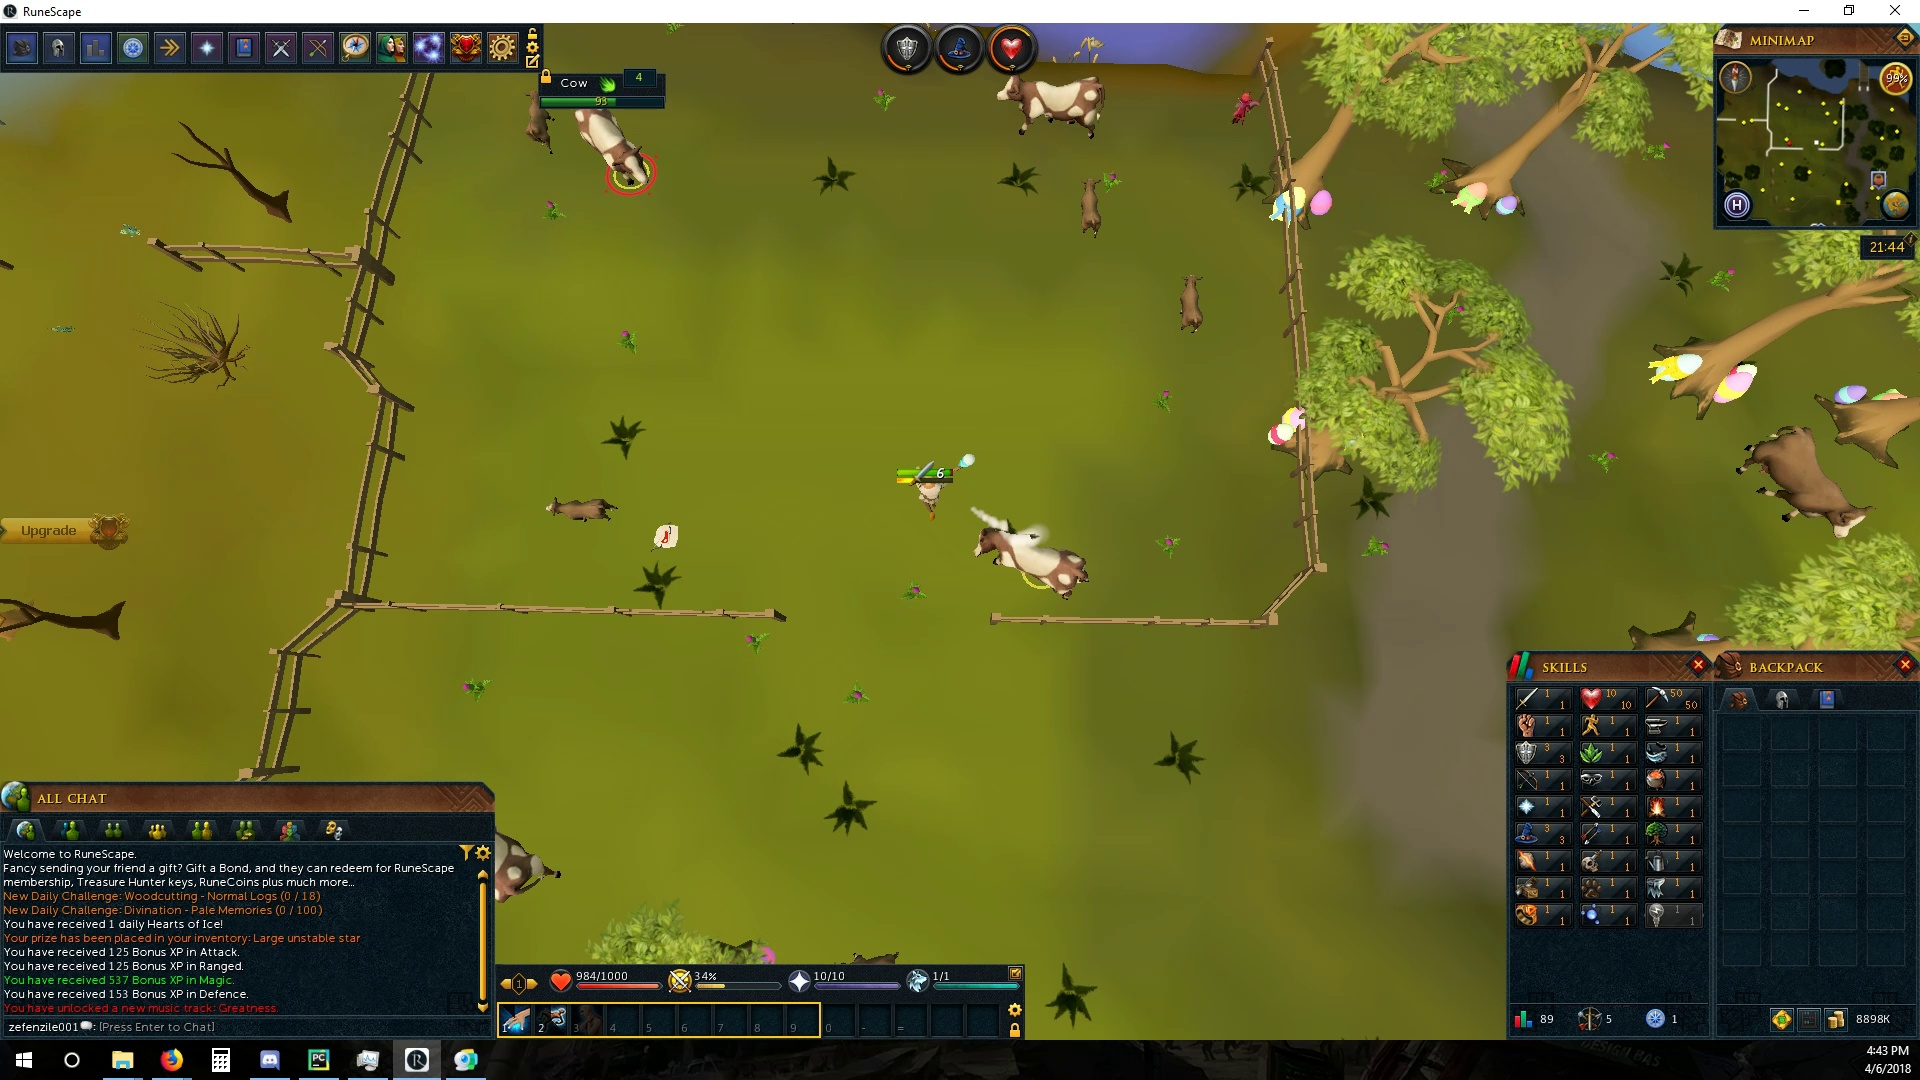calf: (543, 492, 622, 527), (524, 84, 559, 160), (1077, 174, 1106, 243), (1176, 273, 1207, 338)
cow: (1734, 421, 1876, 541), (969, 526, 1095, 607), (994, 75, 1112, 142), (564, 105, 653, 191)
cow_drop: (647, 522, 680, 553)
